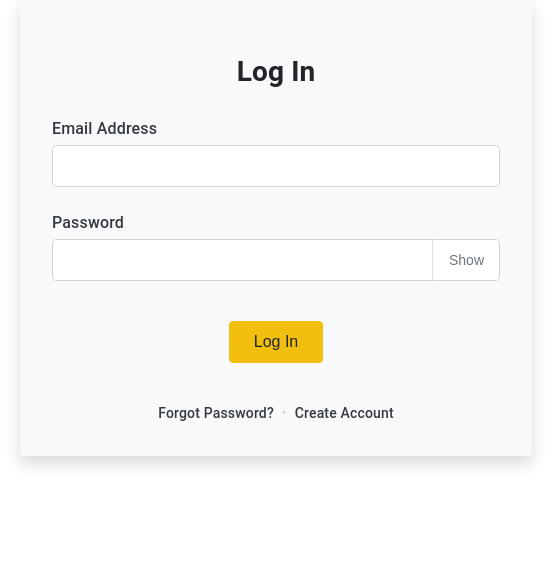
Test: LoginForm › validates required fields
The image size is (553, 579).
# Submit form without filling fields
Click the button "Log In": (276, 342) [229,321,323,363]
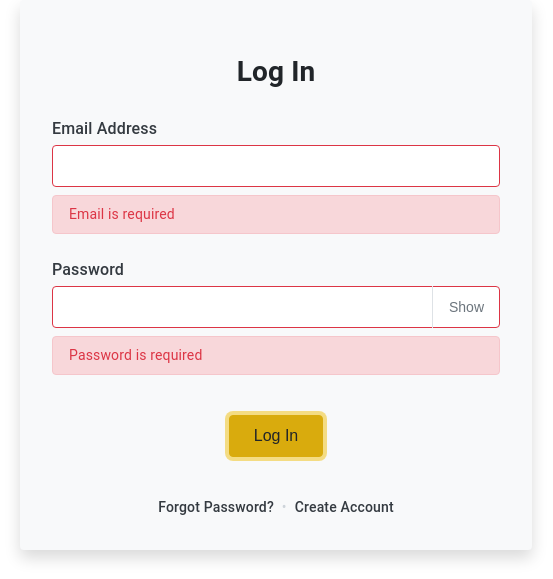
Now the text "Email is required" is shown, box [52,195,500,234]
Now the text "Password is required" is shown, box [52,336,500,375]
